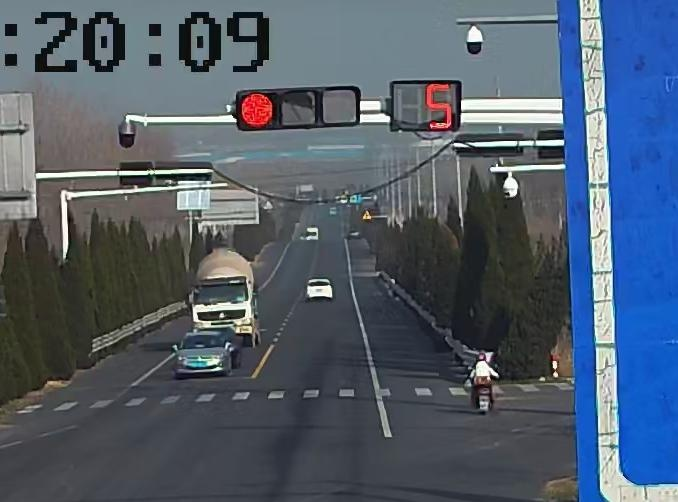red: (239, 93, 274, 127)
redtime: (420, 82, 458, 130)
